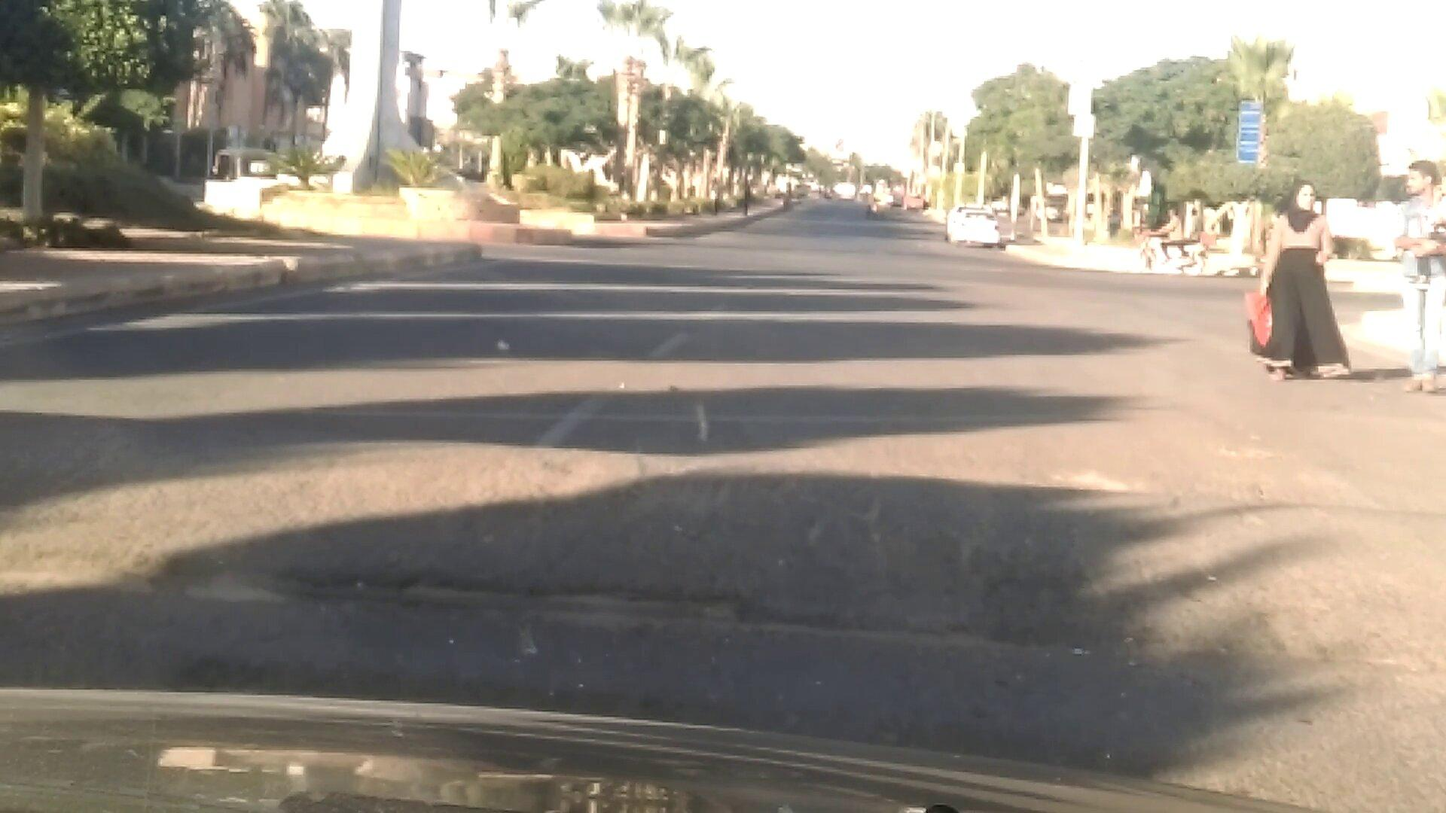Bump: (0, 419, 1445, 672)
